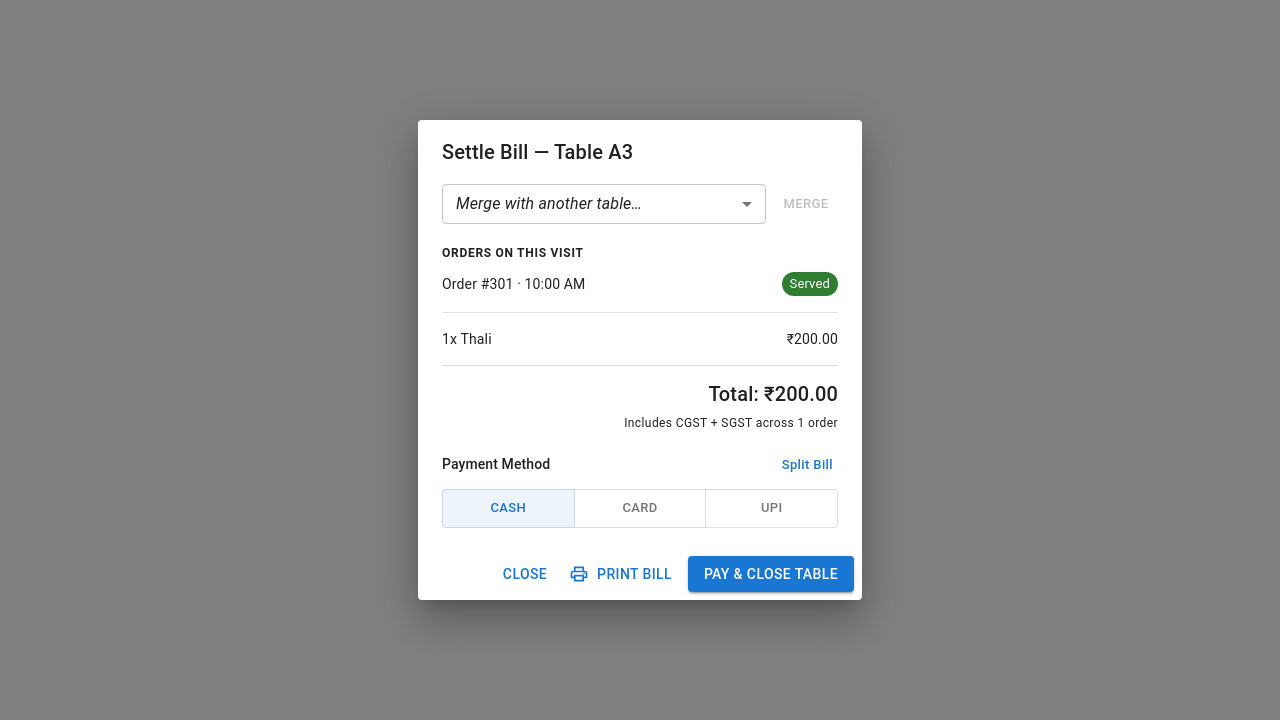
Scenario: SettleBillDialog - table merge › offers other occupied tables to merge with, excluding the current one
This screenshot has width=1280, height=720.
Expected: the heading "Total: ₹200.00" is shown, top-left (709, 382), bottom-right (838, 406)
Click the dropdown "Merge with another table…": (549,204) top-left (456, 194), bottom-right (642, 214)
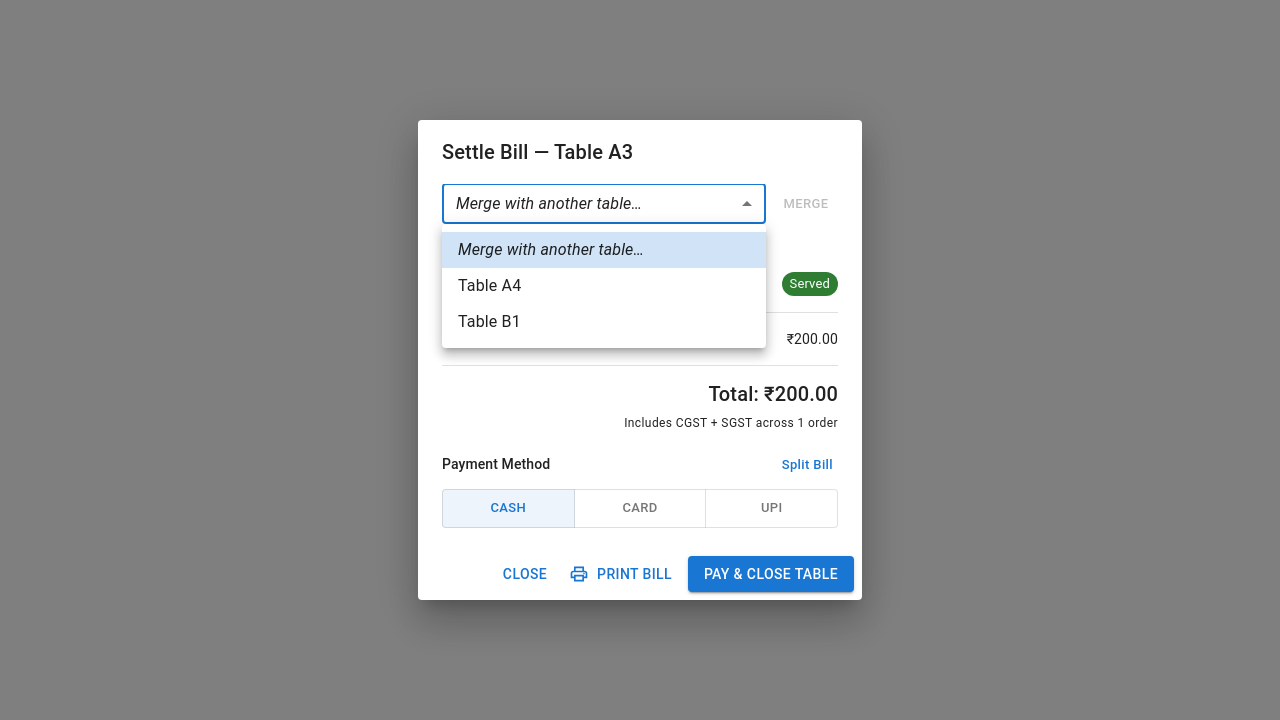
Now the option "Table A4" is shown, box top-left (458, 276), bottom-right (521, 295)
Now the option "Table B1" is shown, box top-left (458, 312), bottom-right (521, 331)
